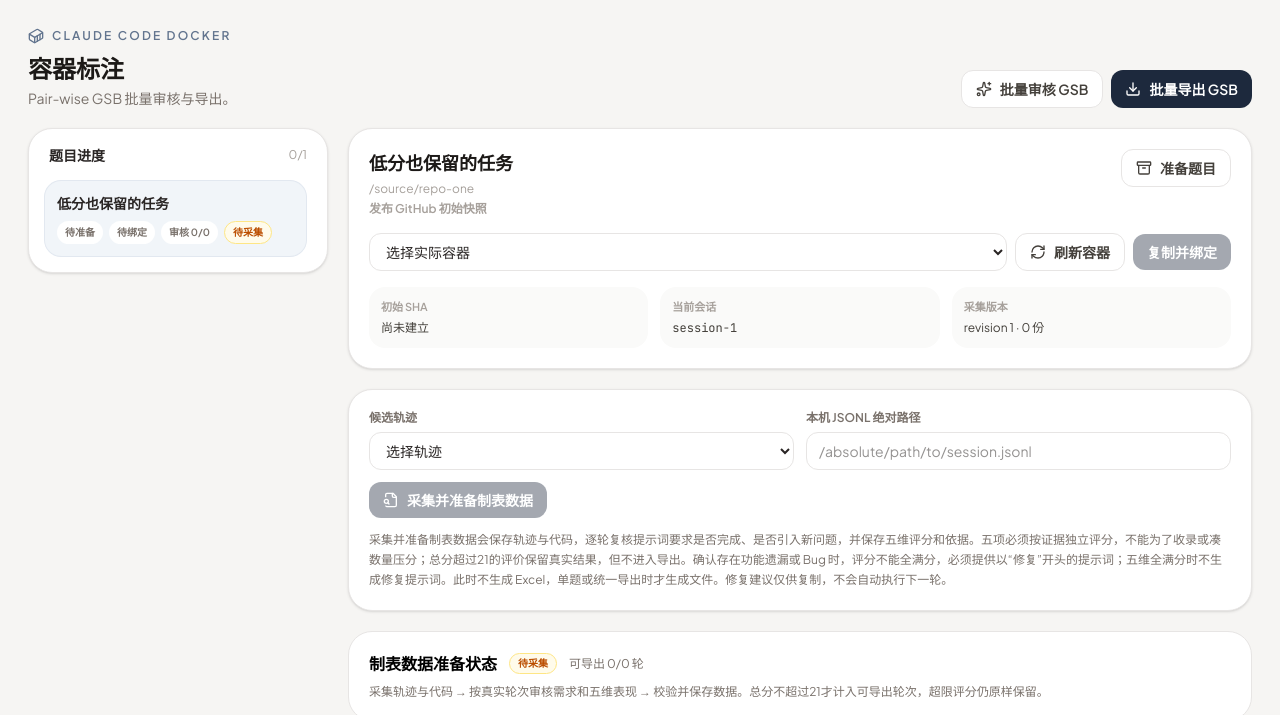
Scenario: AnnotationWorkspace › runs prepare through the job queue and reloads the returned case
Click the button "准备题目".
click(1176, 168)  # box [1121,149,1231,187]
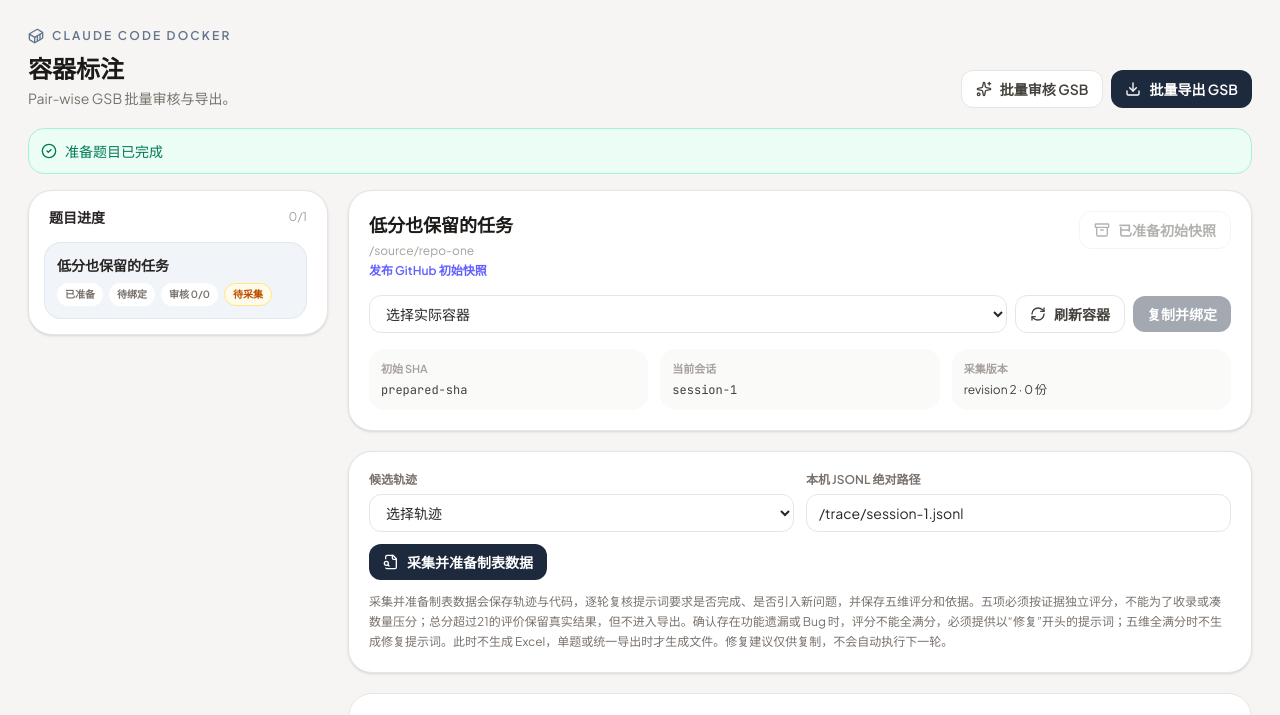
Expected: the text "prepared-sha" is shown, [381,382,467,398]
Expected: the text "准备题目已完成" is shown, [28,128,1252,174]
